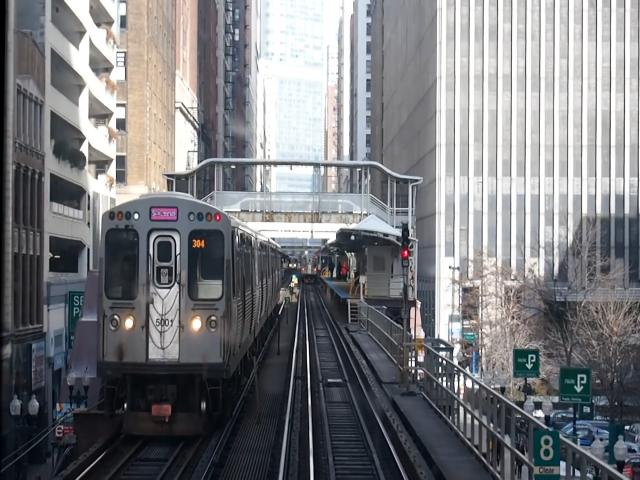signal light: (402, 220, 412, 273)
